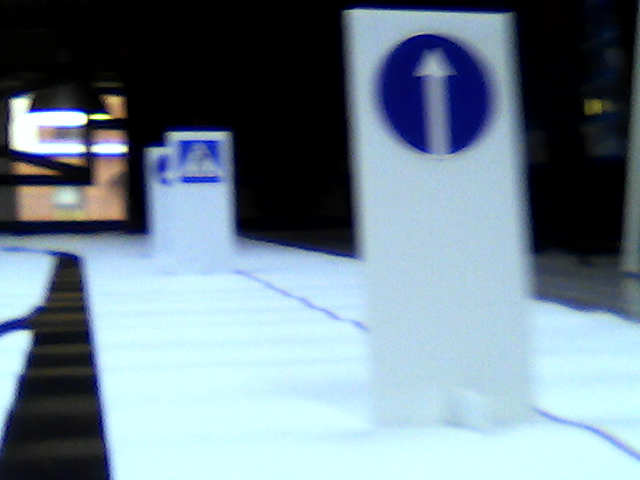forw: (382, 29, 494, 154)
pesh: (179, 140, 224, 185)
